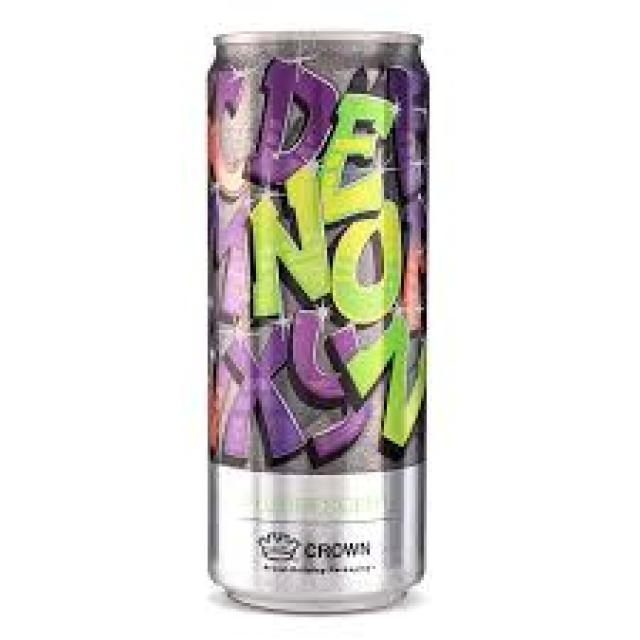Cans: (199, 23, 444, 623)
